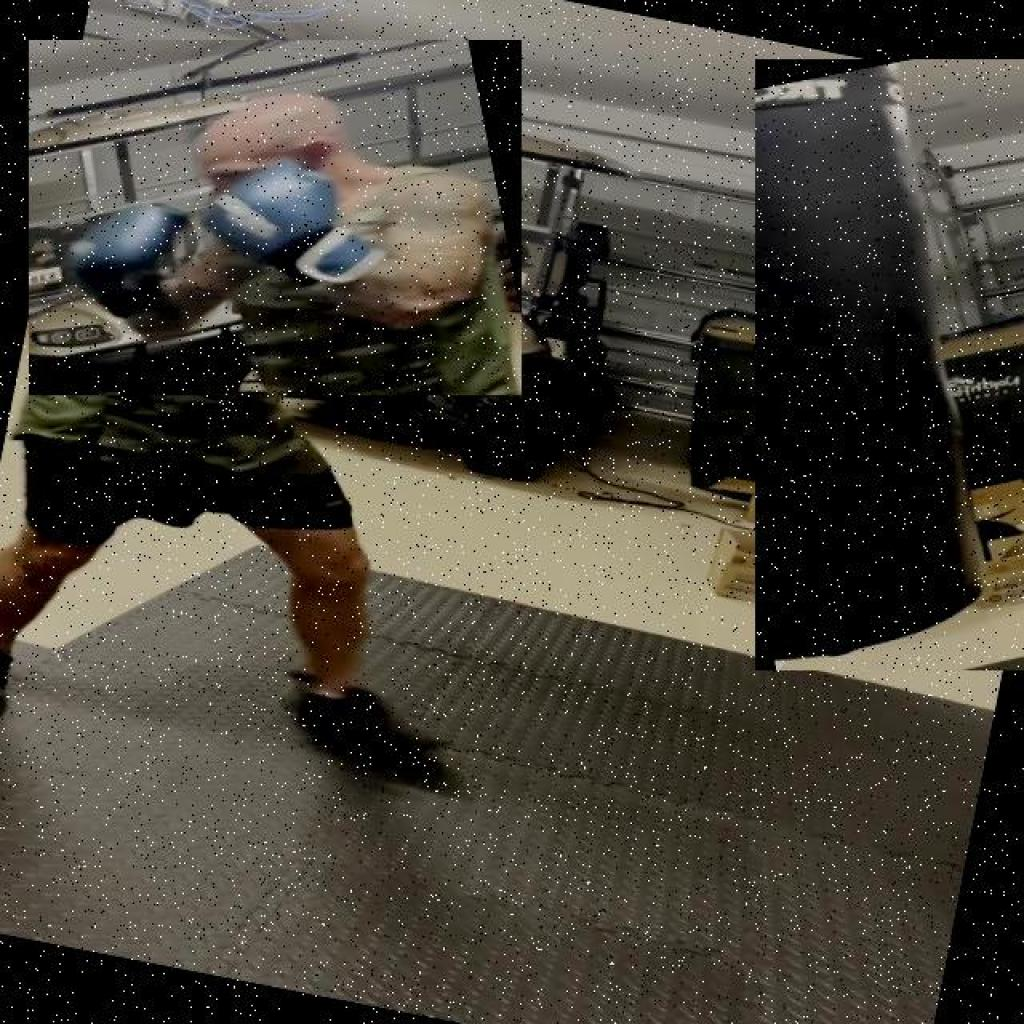bag: (755, 60, 1024, 670)
no punch: (29, 40, 521, 395)
